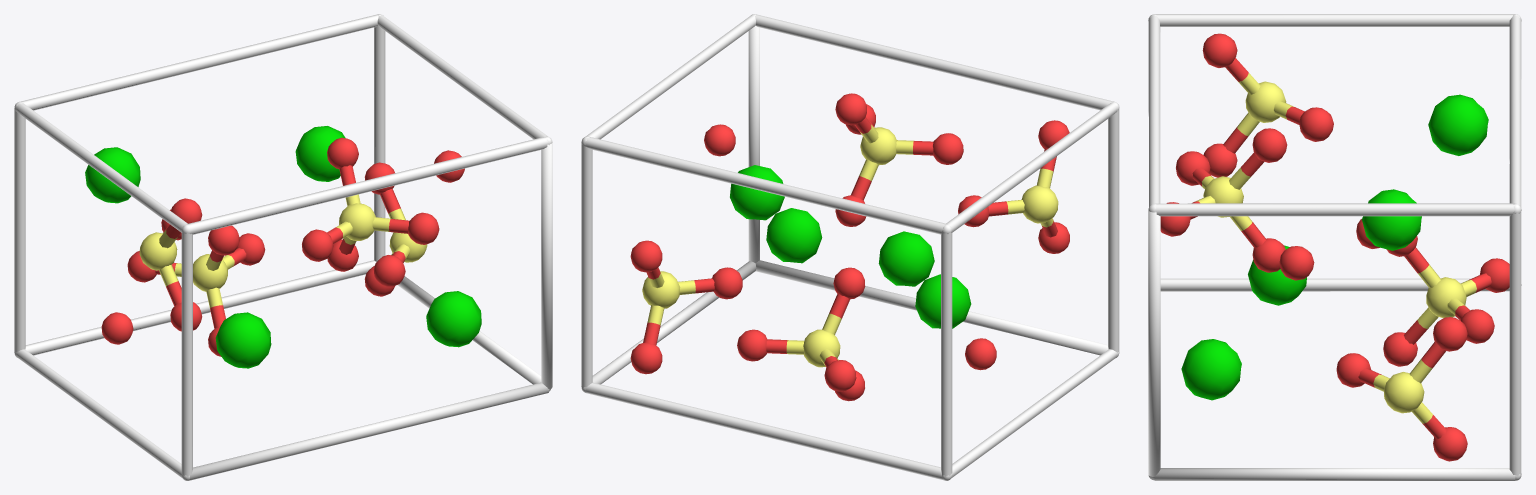
Rendered from BARITA.fbx.
3 renders of one model, left to right at view 1: azimuth 30°, elevation 25°; view 2: azimuth 150°, elevation 25°; view 3: azimuth 270°, elevation 25°, orthographic. The views are drawn at different scales.
Visible parts, largest first — view 1: LIMITE, O.006, Ba, S.003; view 2: LIMITE, O.006, Ba, S.003; view 3: LIMITE, O.006, Ba, S.003.
Boxes of the visible parts, x1,y1,x2,y2 form: LIMITE: (14,14,552,480); O.006: (101,137,464,356); Ba: (85,126,481,368); S.003: (139,194,427,308); LIMITE: (581,14,1119,480); O.006: (630,93,1069,401); Ba: (730,165,971,328); S.003: (642,124,1058,367); LIMITE: (1148,14,1521,480); O.006: (1160,33,1509,461); Ba: (1181,94,1488,400); S.003: (1195,73,1476,423).
Size of the model in its own units: 21.25 by 14.06 by 17.23.
